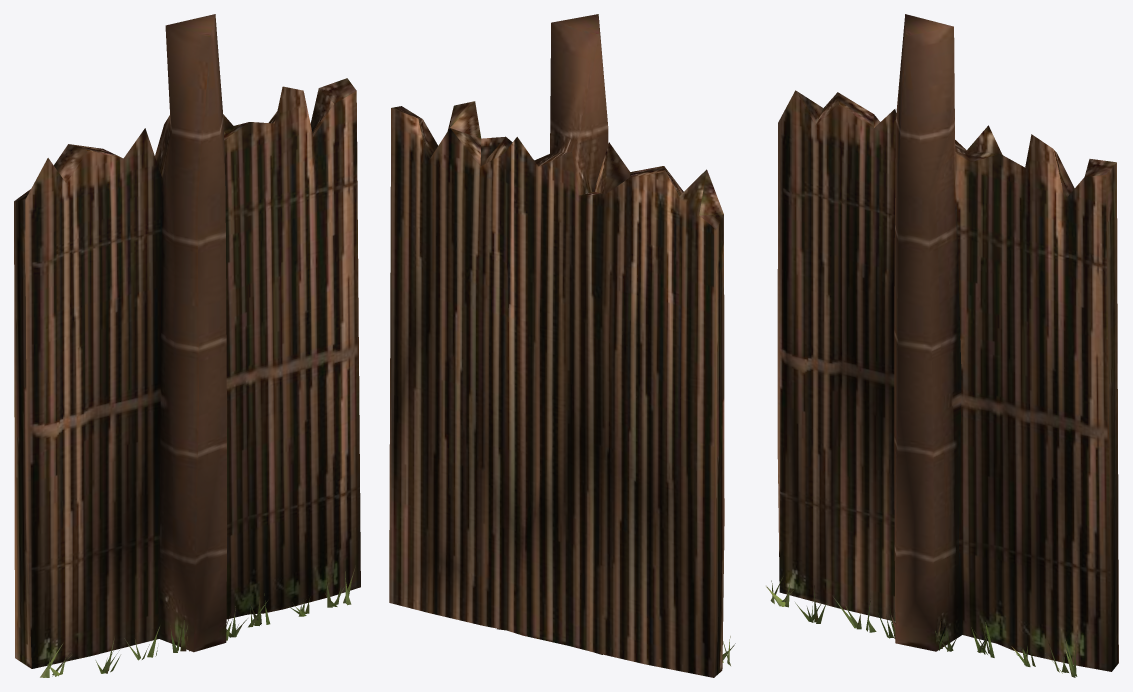
Rendered from fence_reed_post_far.glb.
The picture shows the model from 3 angles, left to right: view 1: azimuth 30°, elevation 25°; view 2: azimuth 150°, elevation 25°; view 3: azimuth 330°, elevation 25°; orthographic projection. The views are drawn at different scales.
Visible parts, largest first — view 1: fence_reed_post_lod1; view 2: fence_reed_post_lod1; view 3: fence_reed_post_lod1.
Boxes of the visible parts, box(x1,y1,x2,y2) form: fence_reed_post_lod1: box(14, 14, 360, 677); fence_reed_post_lod1: box(389, 14, 735, 677); fence_reed_post_lod1: box(766, 14, 1118, 677).
Size of the model in its own units: 0.9952 by 1.74 by 0.2038.
1 material, 1 textured.
